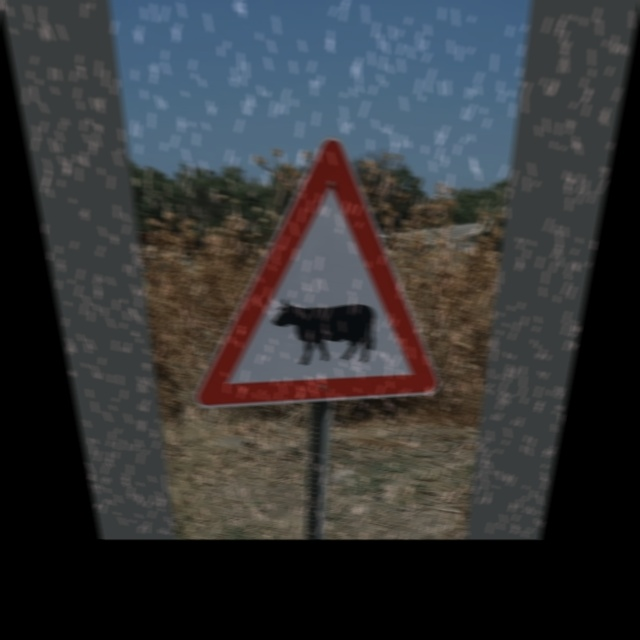Cattle: (186, 143, 462, 406)
